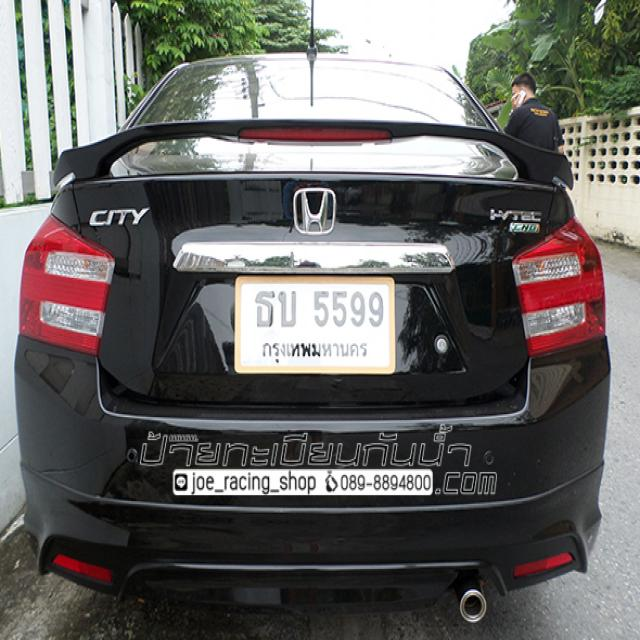license_plate: (232, 272, 398, 377)
